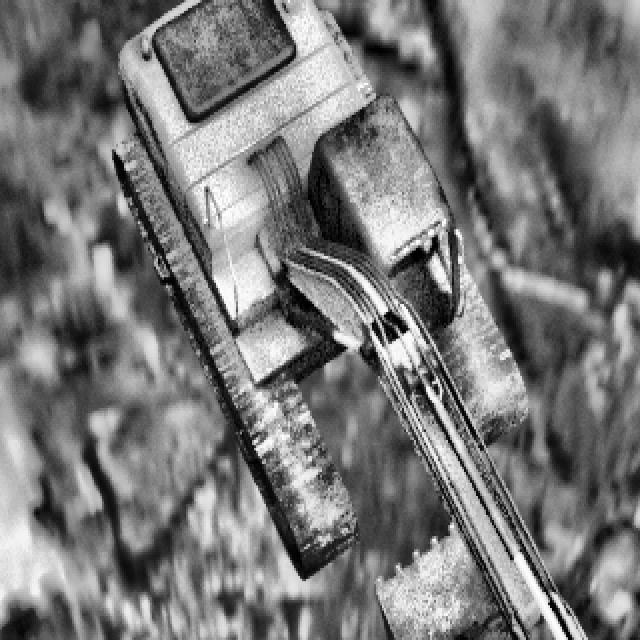excavator: (110, 0, 620, 640)
